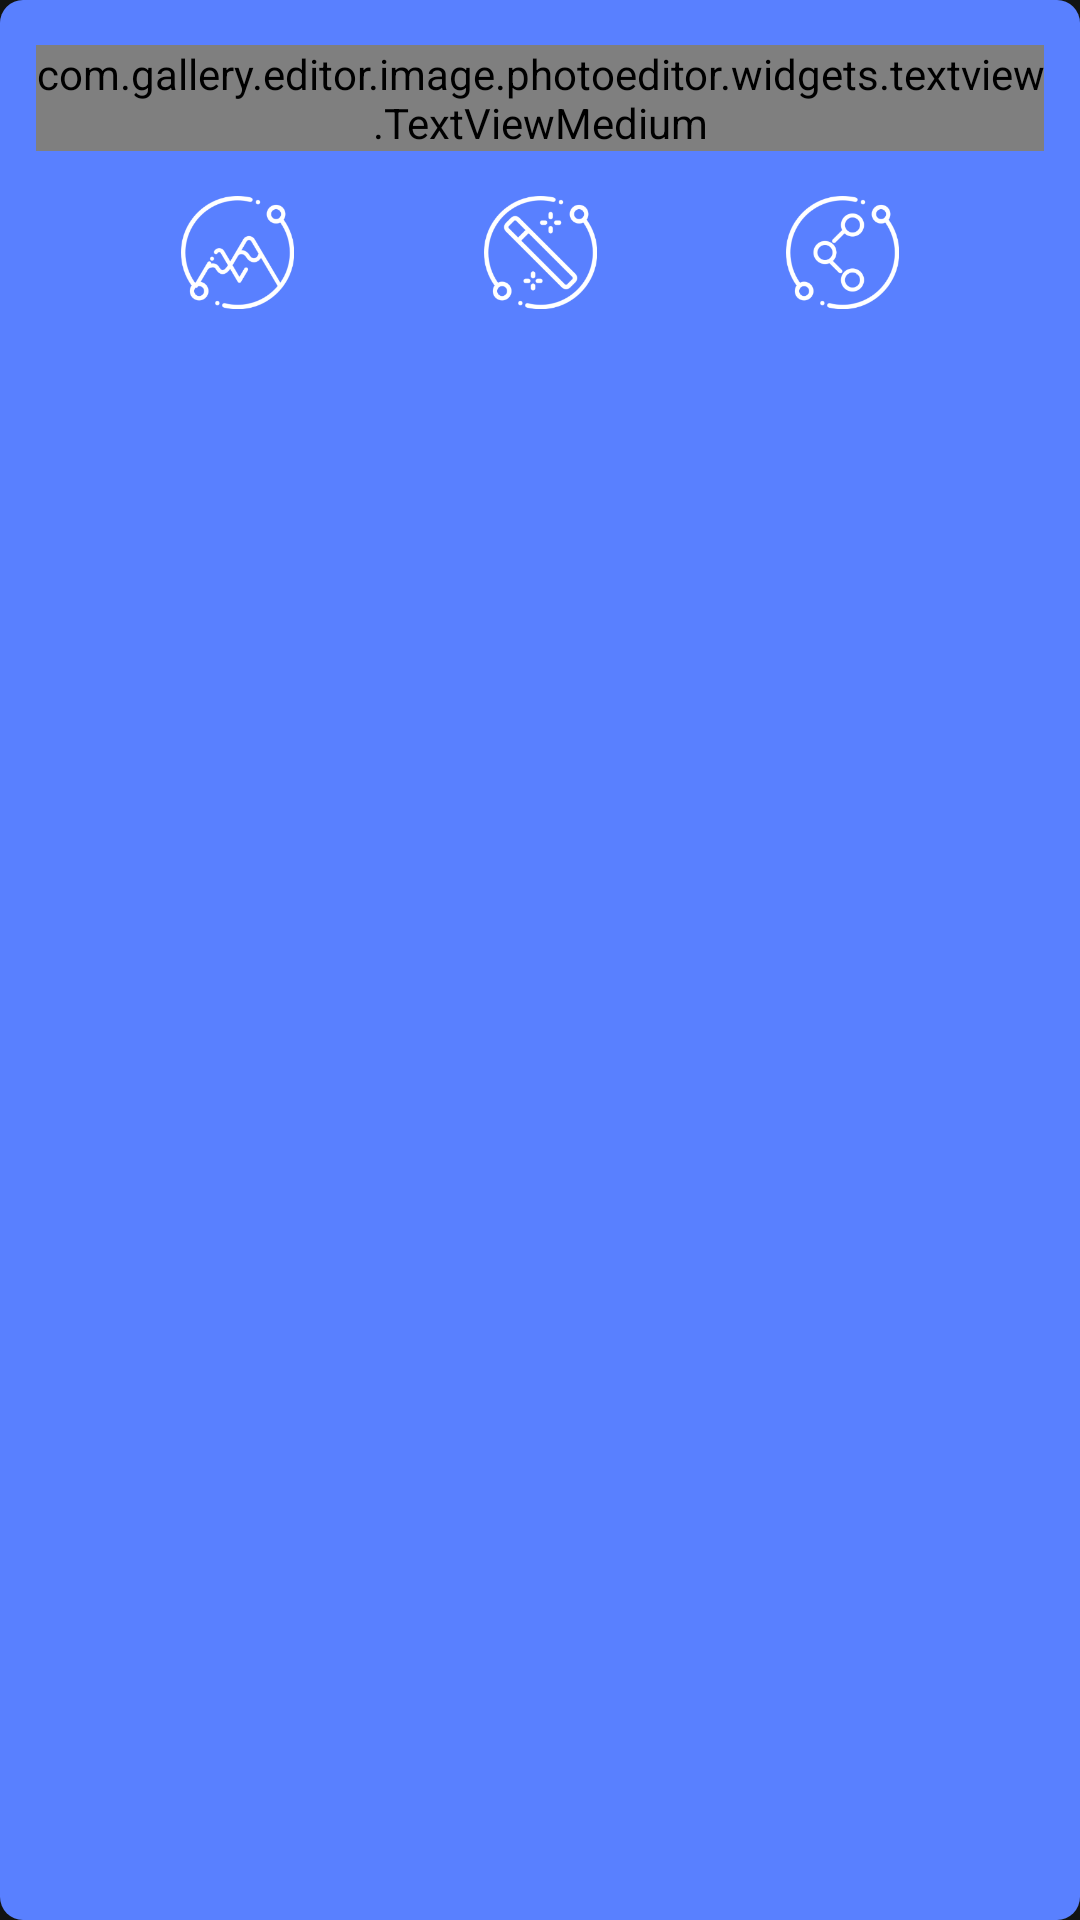

Where icons sit on this 1080px x 1920px app screen, as box=[x1, y1, x2, y2]:
share: box=[786, 196, 899, 309]
